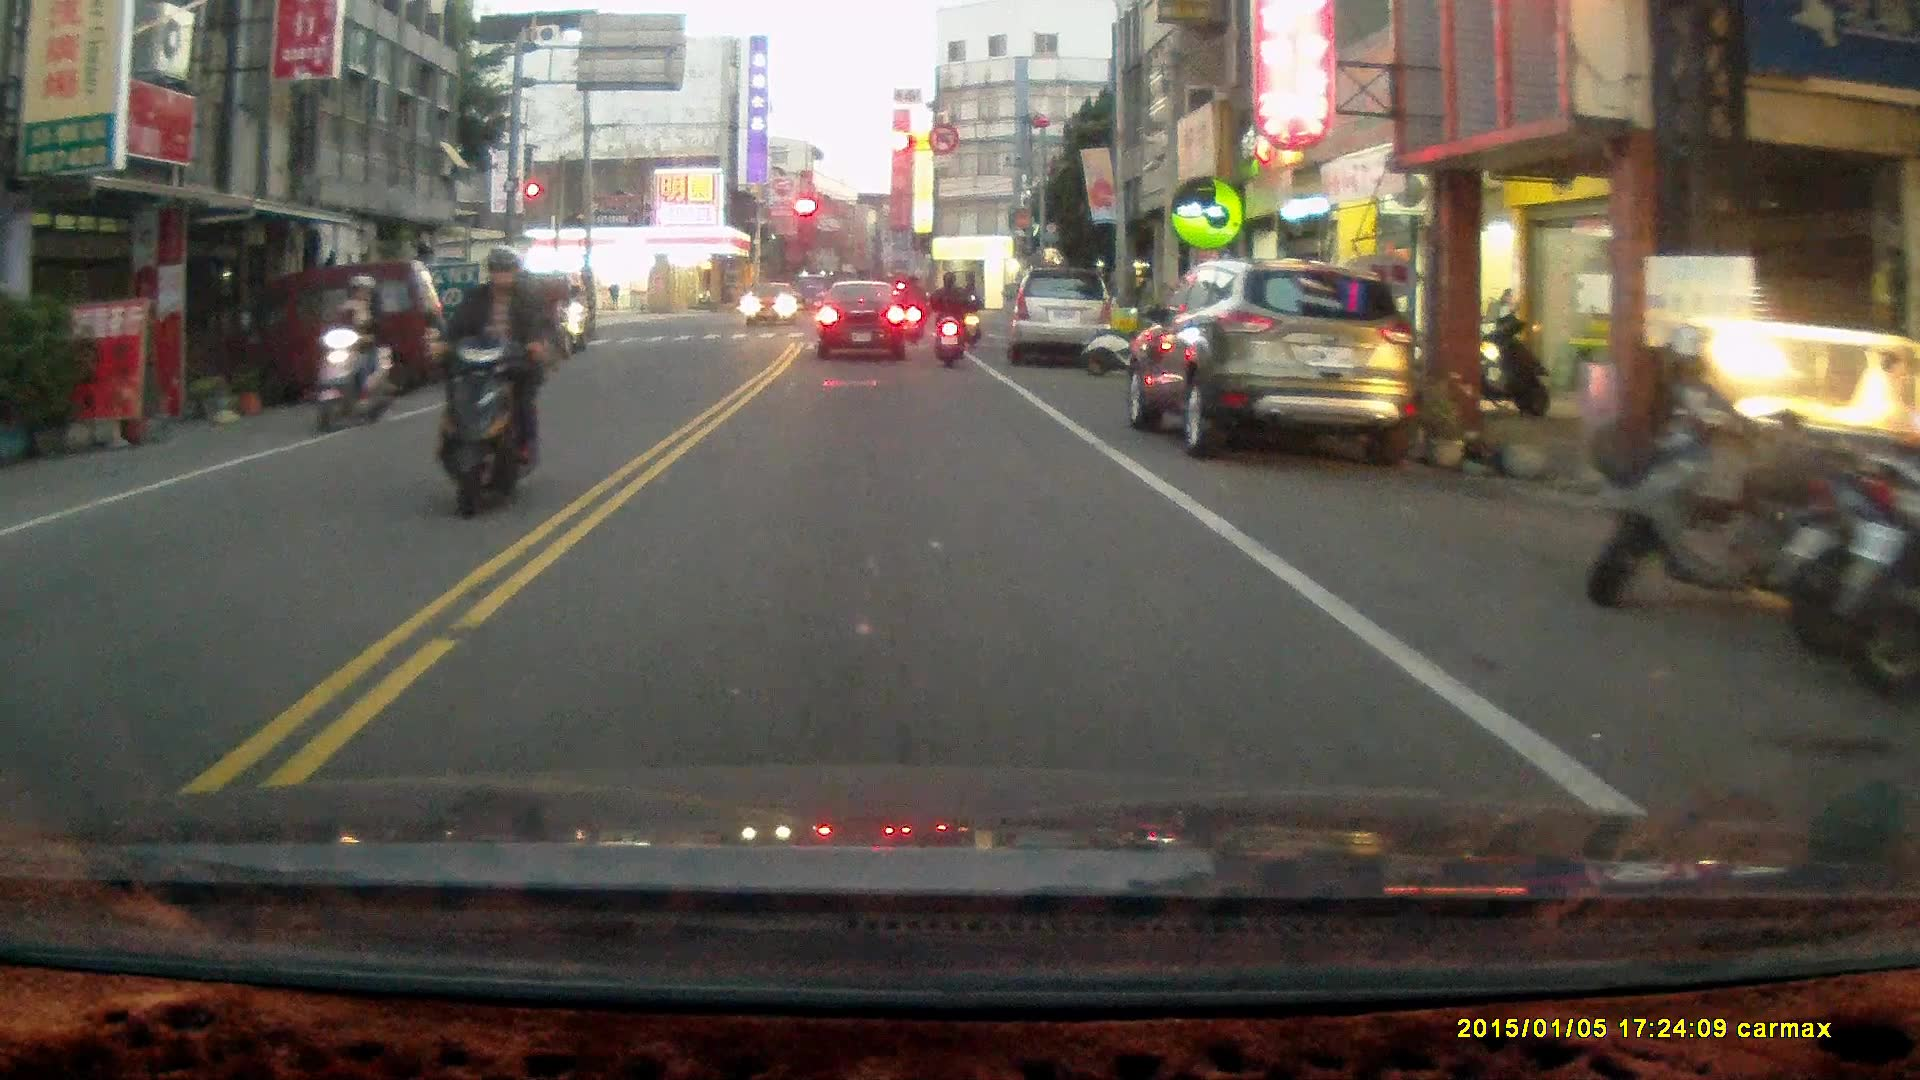rider: (420, 242, 546, 518), (309, 275, 395, 435), (514, 269, 556, 386), (922, 267, 968, 367), (897, 269, 928, 340), (956, 275, 982, 348)
vehicle: (1133, 259, 1414, 466), (219, 263, 452, 409), (1009, 271, 1116, 370), (817, 280, 911, 358), (737, 274, 796, 327)
